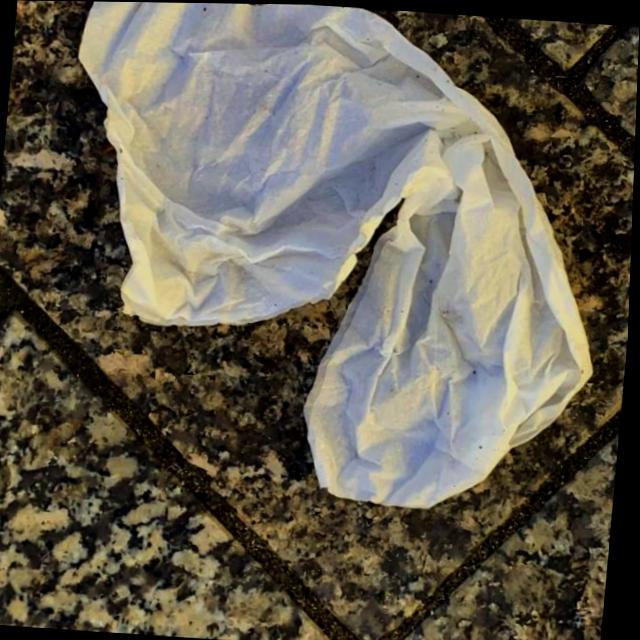Paper: (39, 1, 628, 520)
